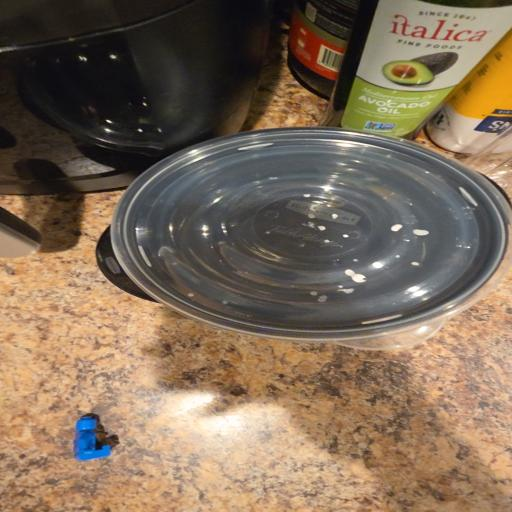Blue: (73, 416, 110, 460)
